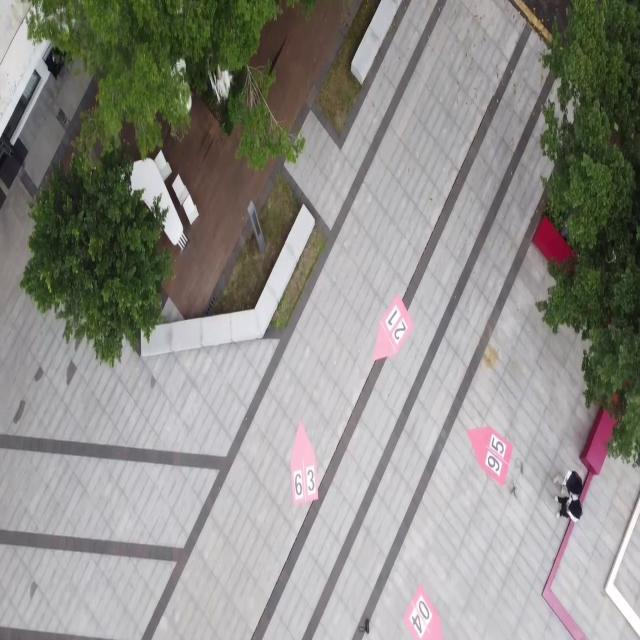-sign-: (460, 414, 518, 491), (370, 290, 418, 368), (286, 422, 324, 510), (396, 582, 451, 640)
